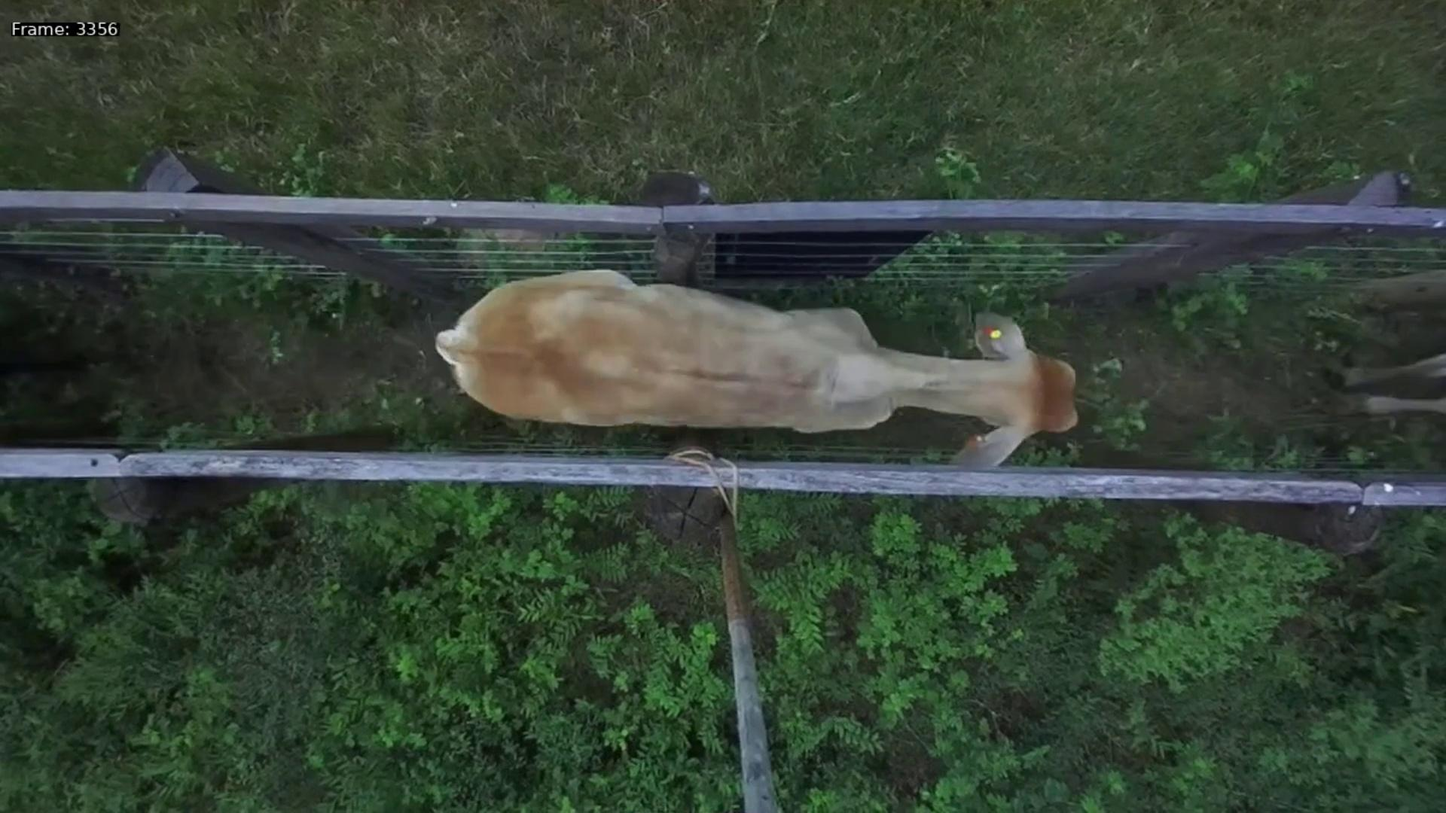cattle: (433, 266, 1079, 469)
